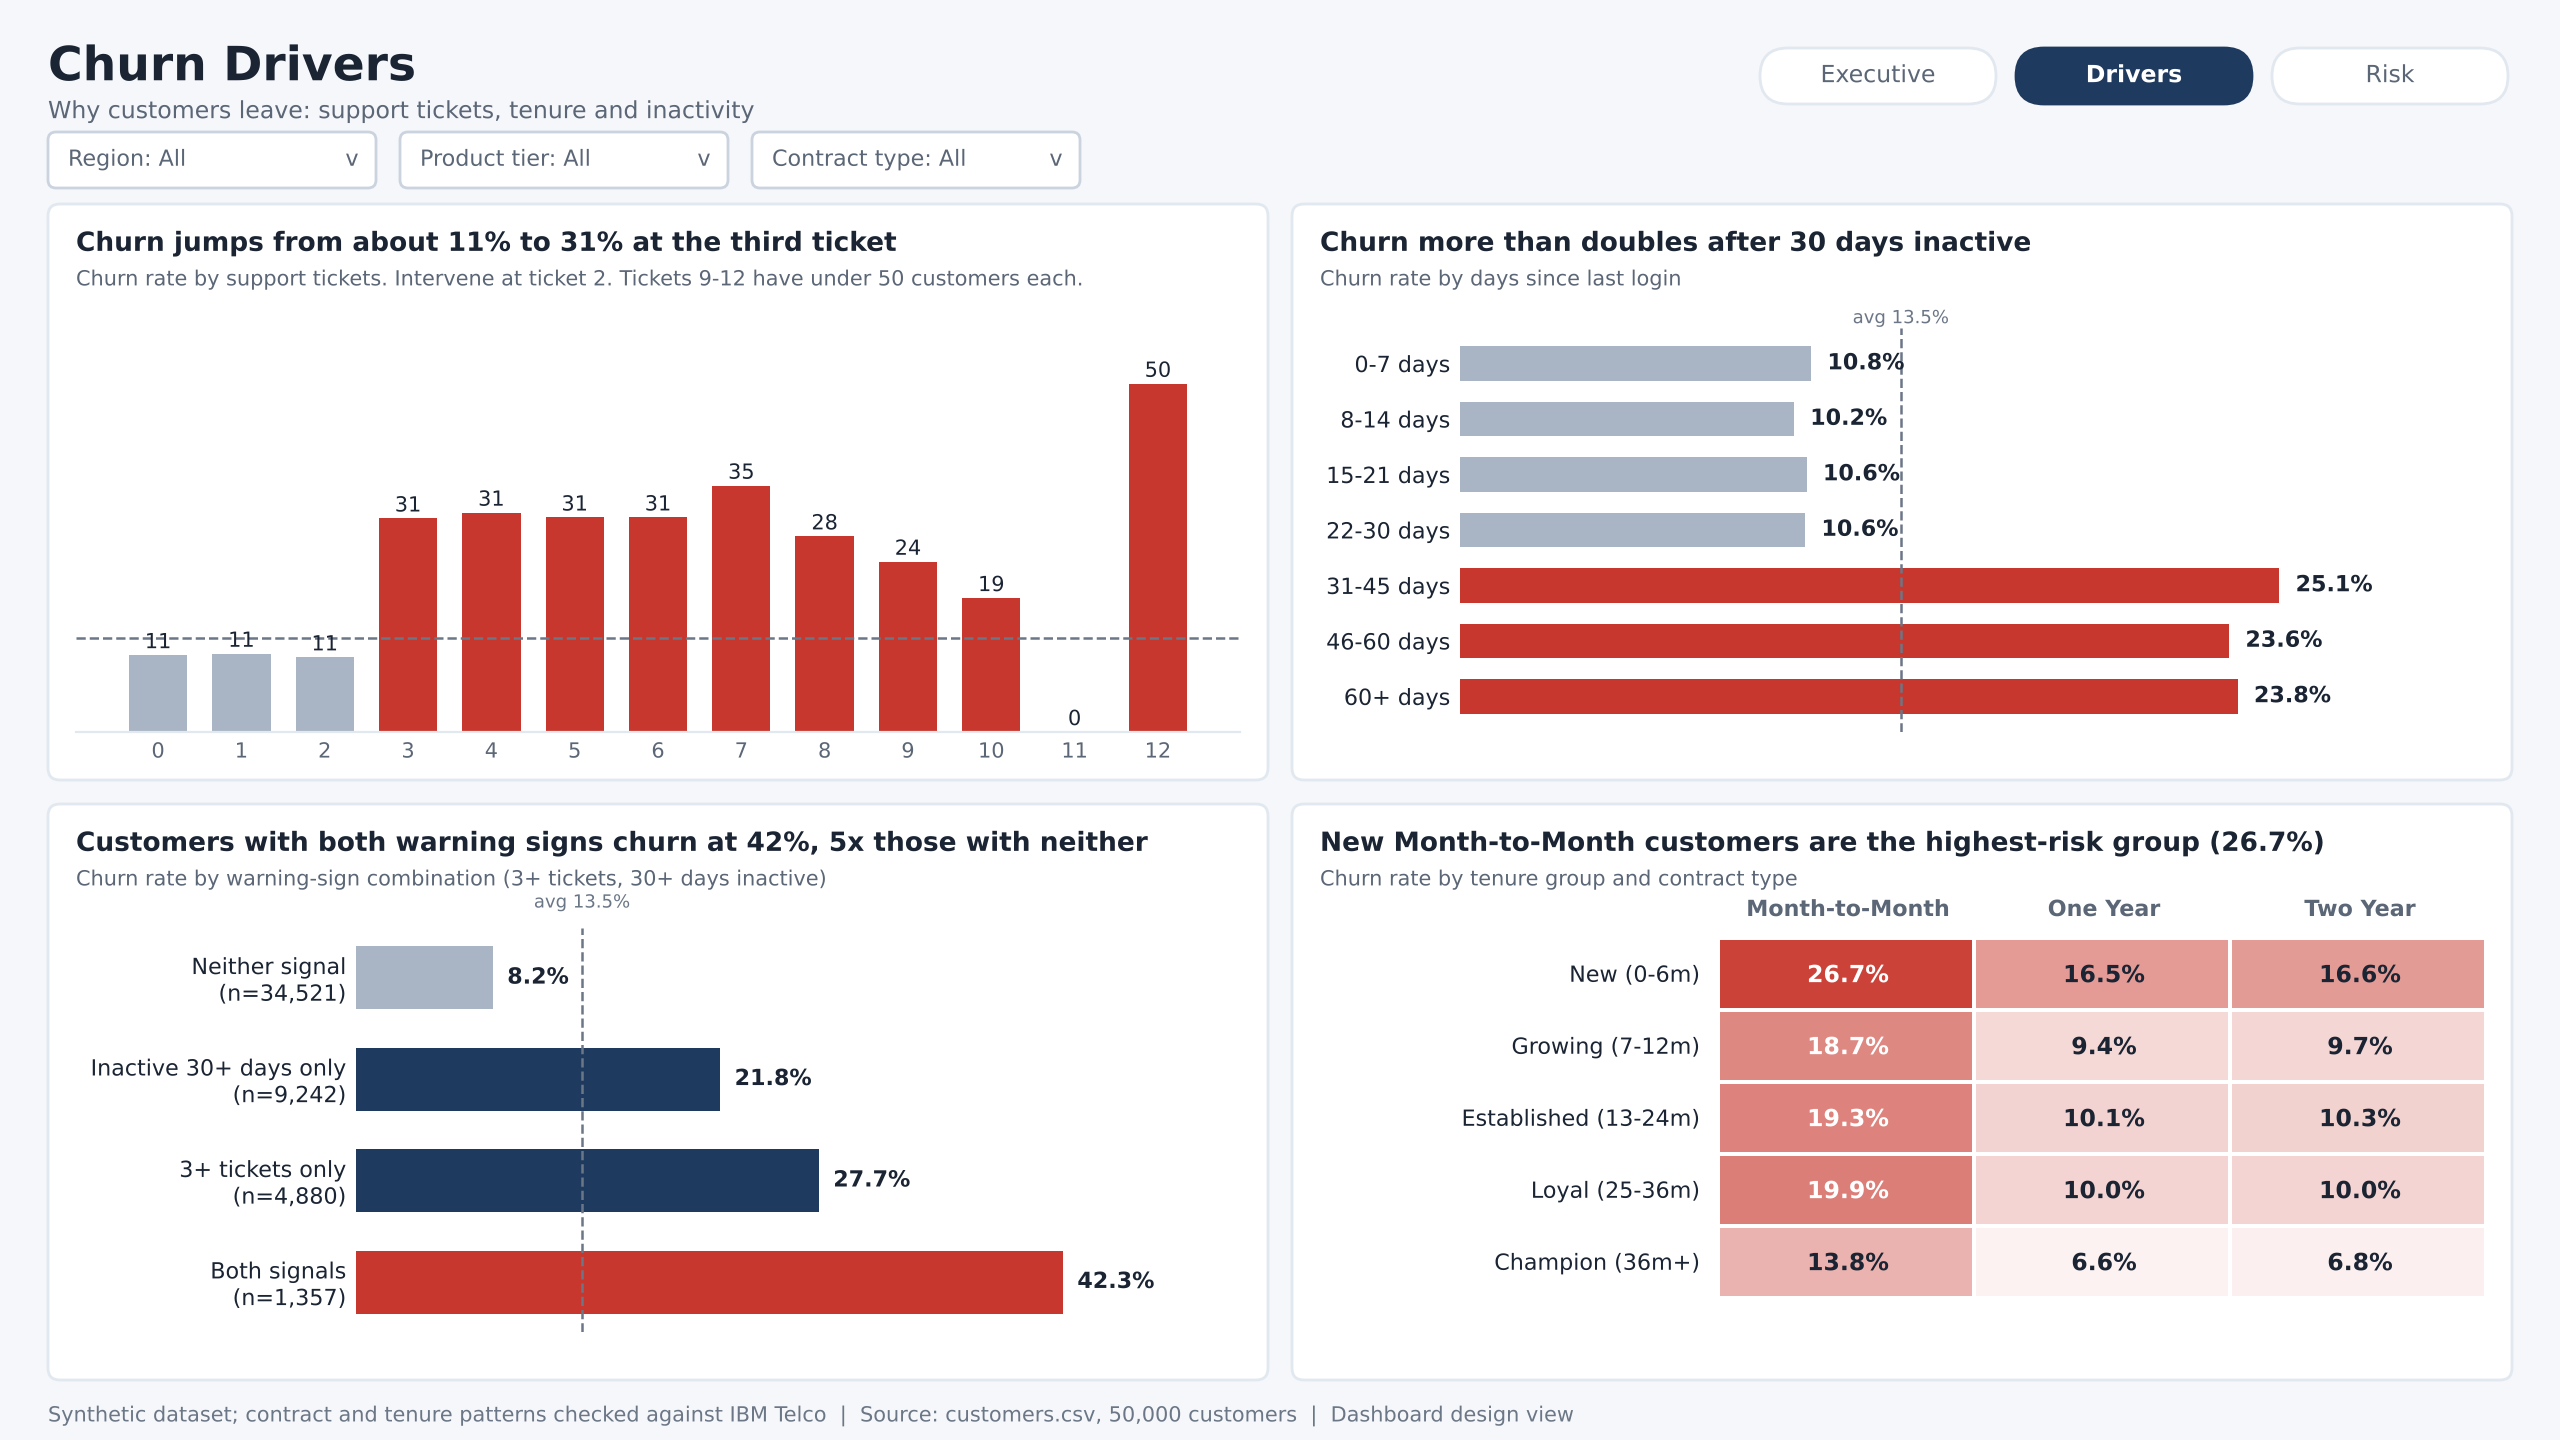

This screenshot's page, from the dashboard's own definition file:
{"tool":"powerbi","page":{"name":"Drivers","canvas":[1280,720],"ordinal":1},"visuals":[{"type":"textbox","box":[32,0,752,48],"z":1800},{"type":"textbox","box":[256,16,416,32],"z":1900},{"type":"pageNavigator","box":[879,22,376,32],"z":2000},{"type":"slicer","title":"Regions","fields":{"Values":["customers.region"]},"box":[32,48,160,64],"z":2100},{"type":"slicer","title":"Product Tier","fields":{"Values":["customers.product_tier"]},"box":[208,48,160,64],"z":2200},{"type":"slicer","title":"Contract Type","fields":{"Values":["customers.contract_type"]},"box":[384,48,160,64],"z":2300},{"type":"textbox","box":[32,688,896,32],"z":2400},{"type":"clusteredColumnChart","title":"Churn jumps from about 11% to 31% at the third ticket","fields":{"Category":["customers.support_tickets"],"Y":["customers.Churn Rate"]},"box":[32,128,608,256],"z":2500},{"type":"clusteredBarChart","title":"Churn more than doubles after 30 days inactive","fields":{"Category":["customers.Inactivity Band"],"Y":["customers.Churn Rate"]},"box":[656,128,592,256],"z":2600},{"type":"clusteredBarChart","title":"New customers churn at 22%, double the 36m+ rate","fields":{"Category":["customers.Warning Signals"],"Y":["customers.Churn Rate"]},"box":[32,400,608,288],"z":2700},{"type":"pivotTable","title":"New Month-to-Month customers are the highest-risk group (26.7%)","fields":{"Columns":["customers.contract_type"],"Rows":["customers.Tenure Group"],"Values":["customers.Churn Rate"]},"box":[656,400,592,288],"z":2800}]}

Visuals, with their boxes in screenshot pixels (x1, y1, x2, y2), scaled from the page's 1280x720 canvas onto the 2560x1440 screenshot:
textbox: (64,0,1568,96)
textbox: (512,32,1344,96)
pageNavigator: (1758,44,2510,108)
"Regions" slicer: (64,96,384,224)
"Product Tier" slicer: (416,96,736,224)
"Contract Type" slicer: (768,96,1088,224)
textbox: (64,1376,1856,1439)
"Churn jumps from about 11% to 31% at the third ticket" clusteredColumnChart: (64,256,1280,768)
"Churn more than doubles after 30 days inactive" clusteredBarChart: (1312,256,2496,768)
"New customers churn at 22%, double the 36m+ rate" clusteredBarChart: (64,800,1280,1376)
"New Month-to-Month customers are the highest-risk group (26.7%)" pivotTable: (1312,800,2496,1376)
